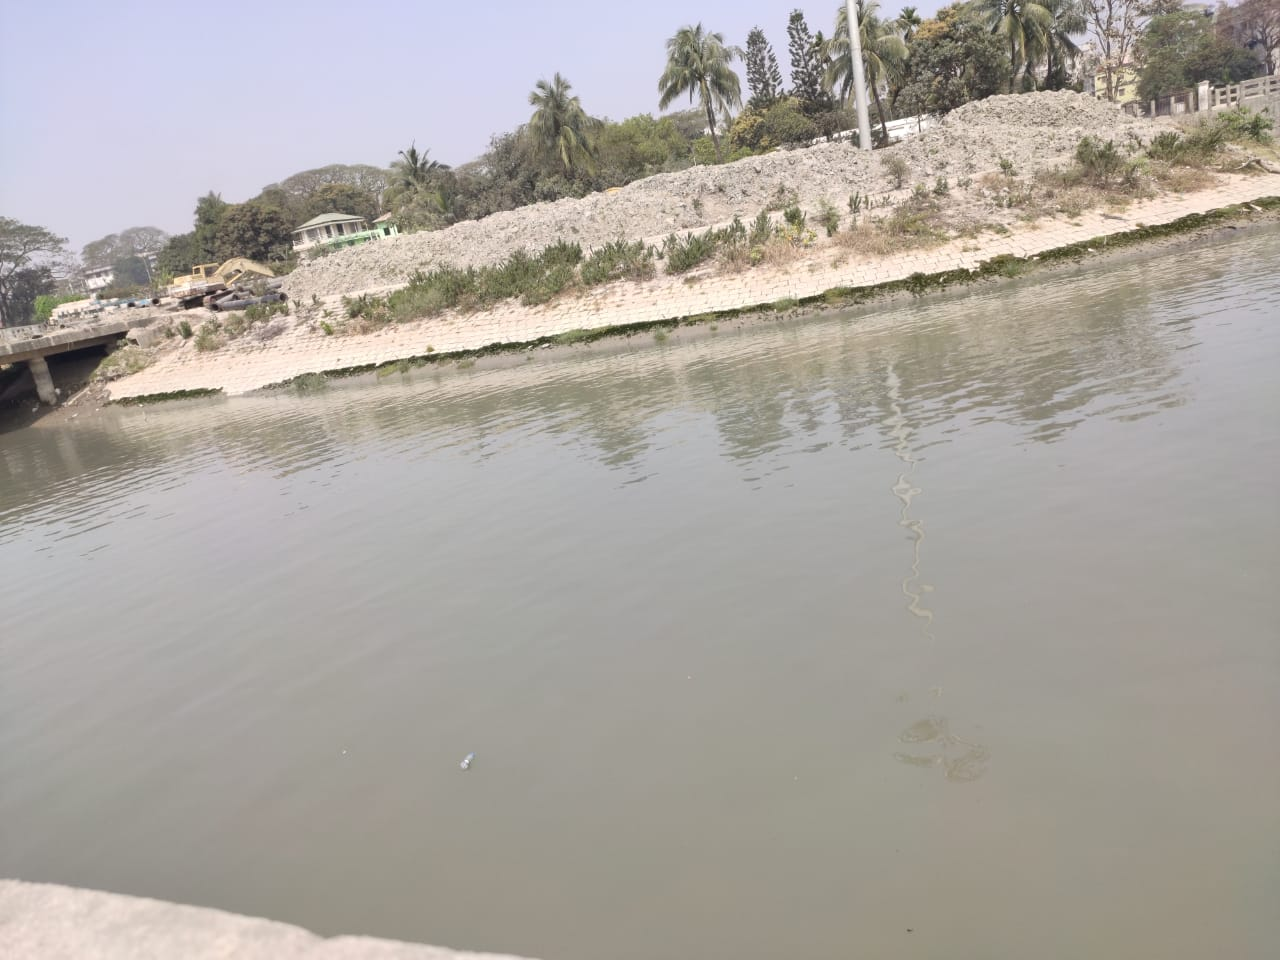Plastic Bottle: (460, 753, 476, 770)
